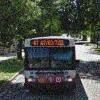buses: (20, 37, 77, 88)
